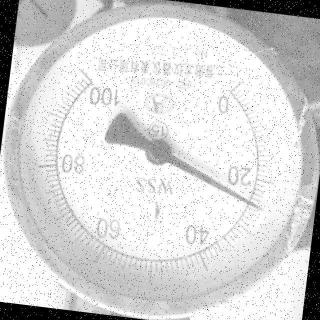gauge: (0, 0, 320, 320), (67, 52, 113, 100), (213, 71, 252, 108), (142, 134, 174, 168), (247, 198, 270, 216)
